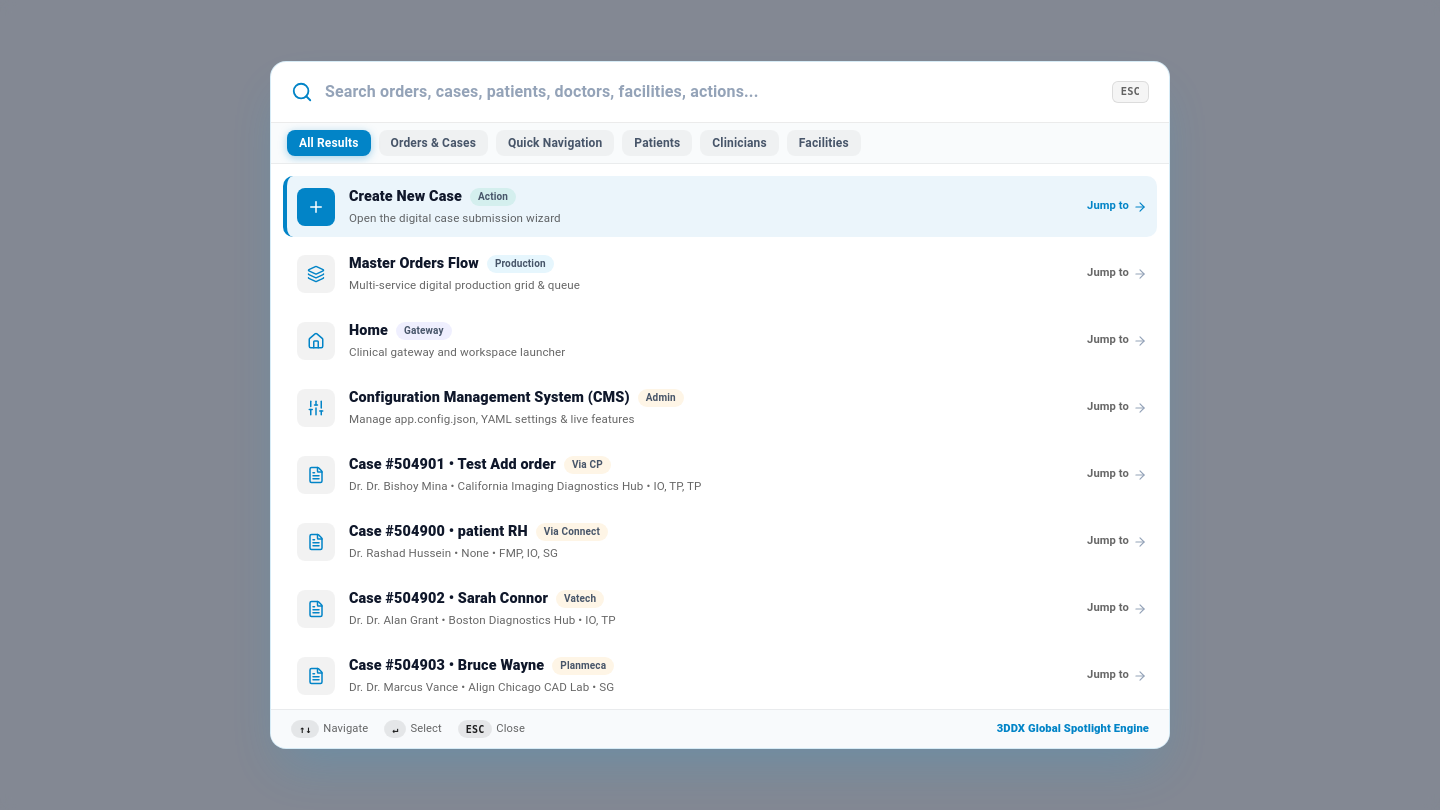
it: Global Search Improvement (UIUX-REQ-009) › Debouncing & Input Responsiveness › immediately resets search when input is cleared without waiting for debounce
Replace the text in the field named "search clinical repository" with "Facility" at (712, 92), box 325,76 -> 1100,108
Wait 160 ms
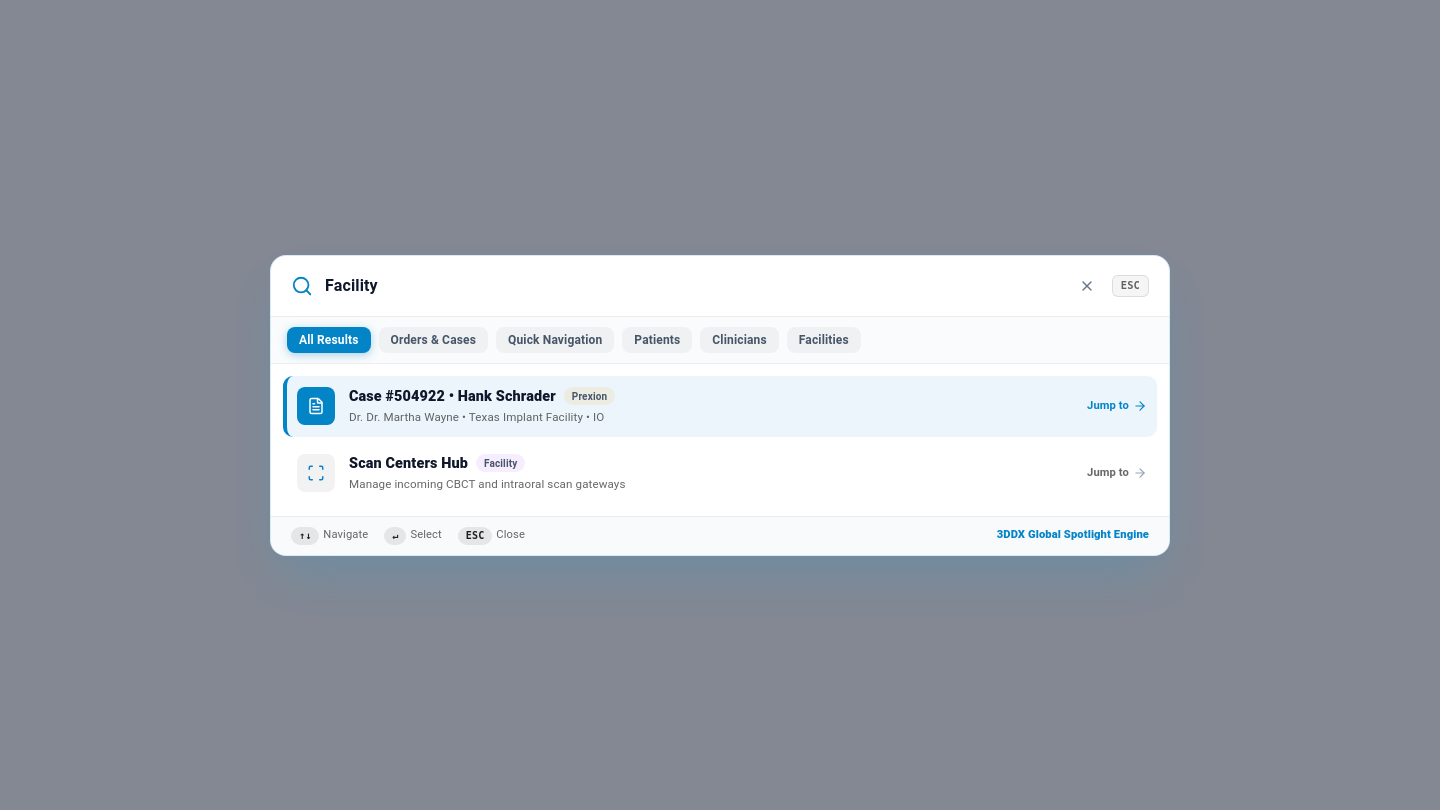
Check: the text "Scan Centers Hub" is shown, box 349,452 -> 468,474
Note: Clear input button
Click the button named "clear search input".
click(1087, 286)  # box 1074,272 -> 1100,298
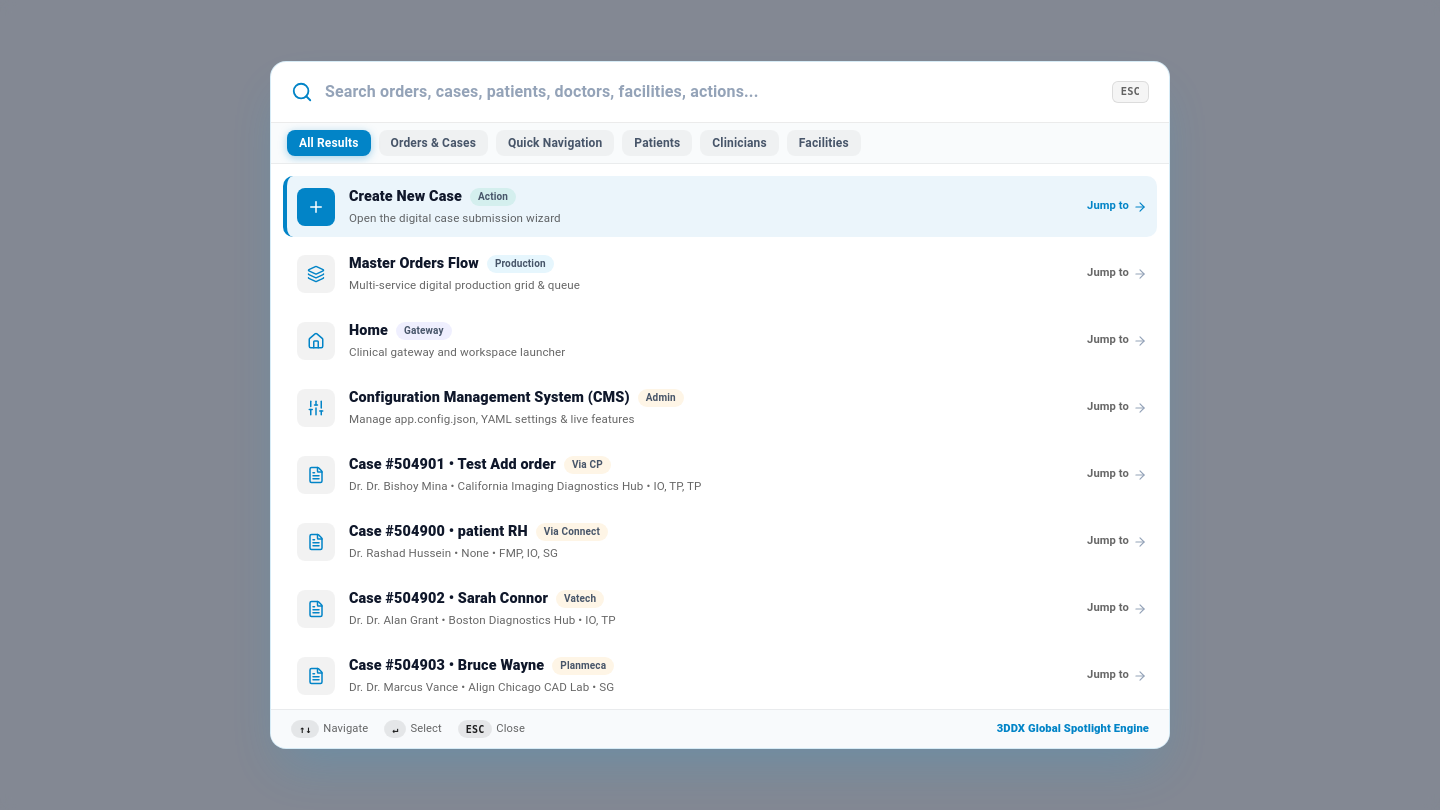
Check: the field named "search clinical repository" is empty, box 325,76 -> 1100,108
Check: the text "Create New Case" is shown, box 349,186 -> 462,208
